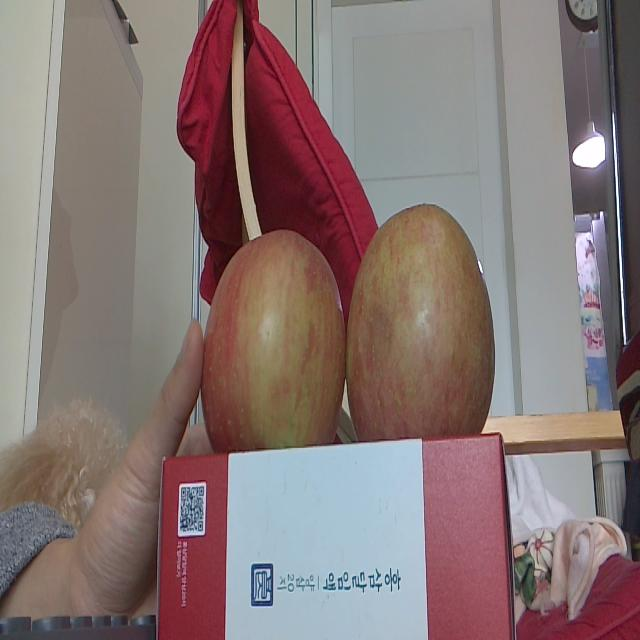apple: (344, 204, 496, 440), (199, 231, 345, 454)
